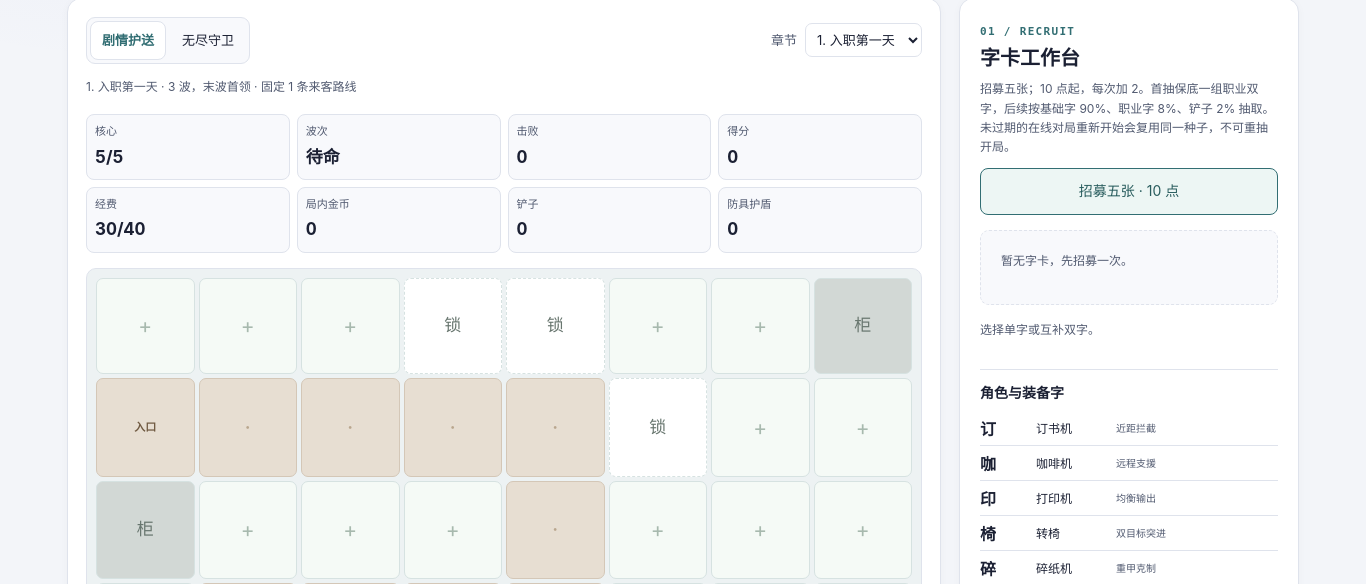
it: WordFrontV3Page › keeps a v3 game local when an old API ignores the version request
Click the button "招募五张 · 10 点".
click(1129, 191)  # box left=980, top=168, right=1278, bottom=215
(page scrolled)
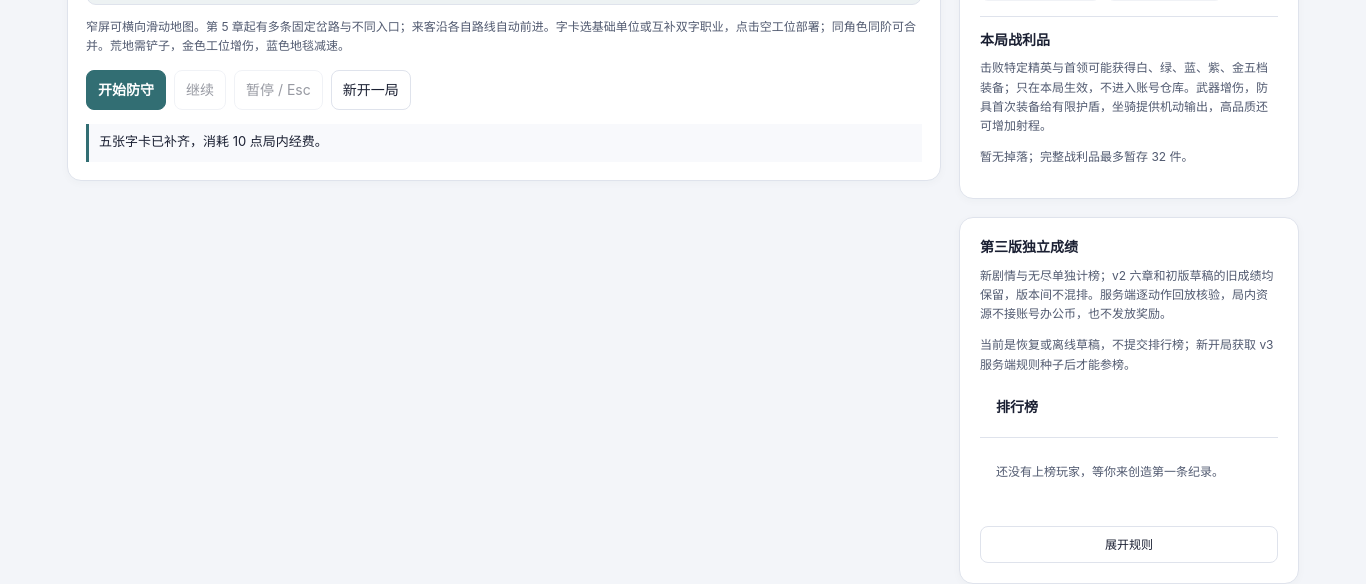
Now the text "当前是恢复或离线草稿，不提交排行榜；新开局获取 v3 服务端规则种子后才能参榜。" is shown, box left=980, top=336, right=1278, bottom=374
